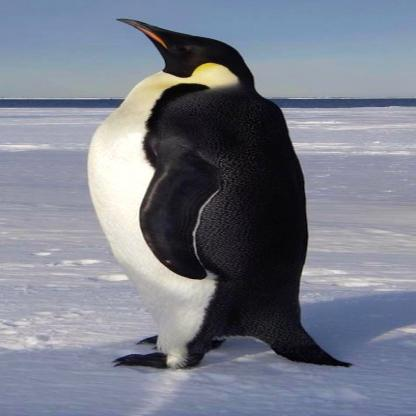Penguin: (66, 10, 374, 388)
